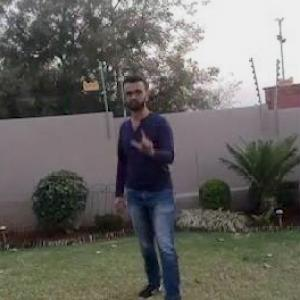land_hand: (131, 117, 159, 158)
